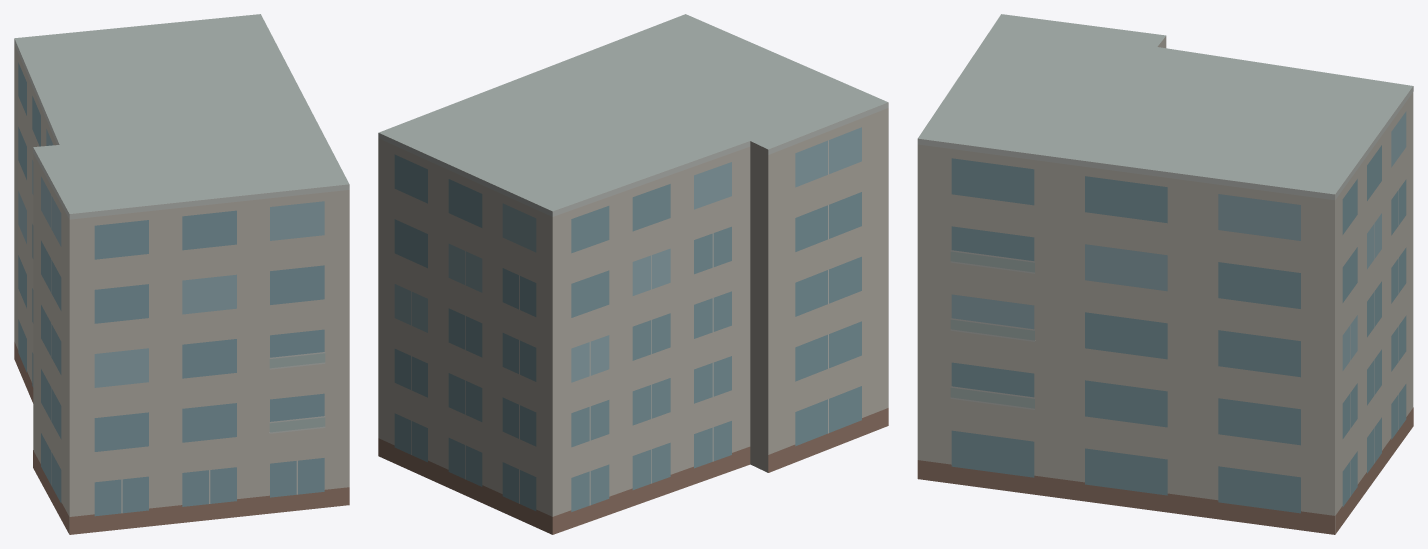
File: survey-upis-32632639.glb
3 renders of one model, left to right at view 1: azimuth 30°, elevation 25°; view 2: azimuth 150°, elevation 25°; view 3: azimuth 270°, elevation 25°, orthographic. The views are drawn at different scales.
Parts seen in each view (by area): view 1: survey-upis-32632639.tmp; view 2: survey-upis-32632639.tmp; view 3: survey-upis-32632639.tmp.
Boxes of the visible parts, bbox=[...] form: survey-upis-32632639.tmp: bbox=[14, 14, 349, 534]; survey-upis-32632639.tmp: bbox=[378, 14, 888, 534]; survey-upis-32632639.tmp: bbox=[917, 14, 1413, 534].
Size of the model in its own units: 16.16 by 14.2 by 18.75.
